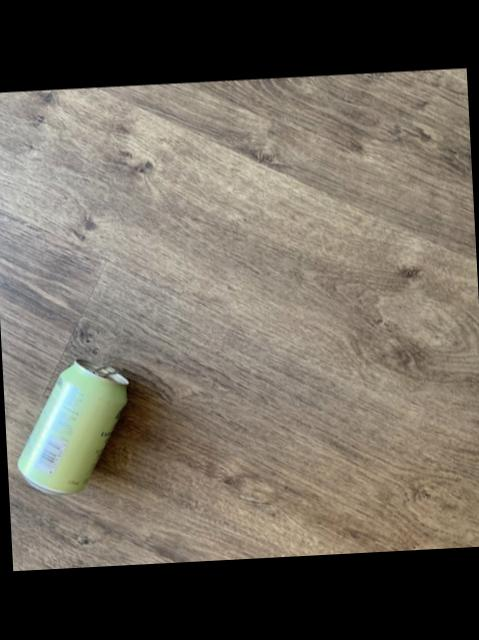metal: (18, 359, 128, 493)
